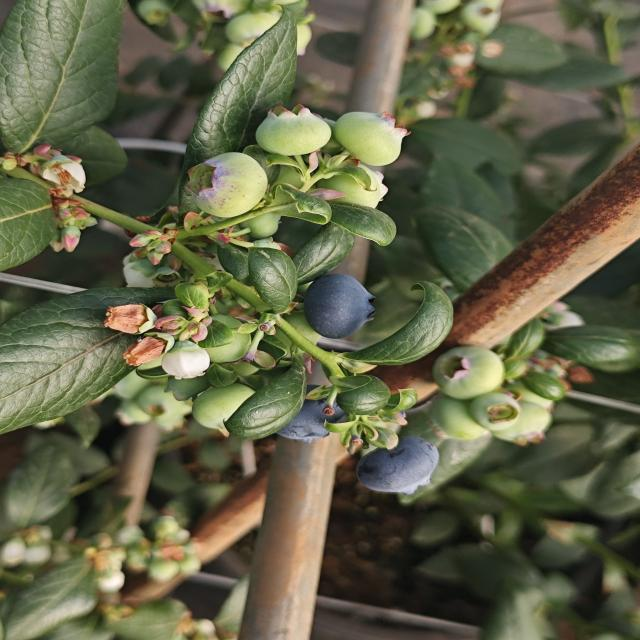ripe: (355, 419, 446, 499), (304, 272, 386, 338), (285, 394, 336, 446)
